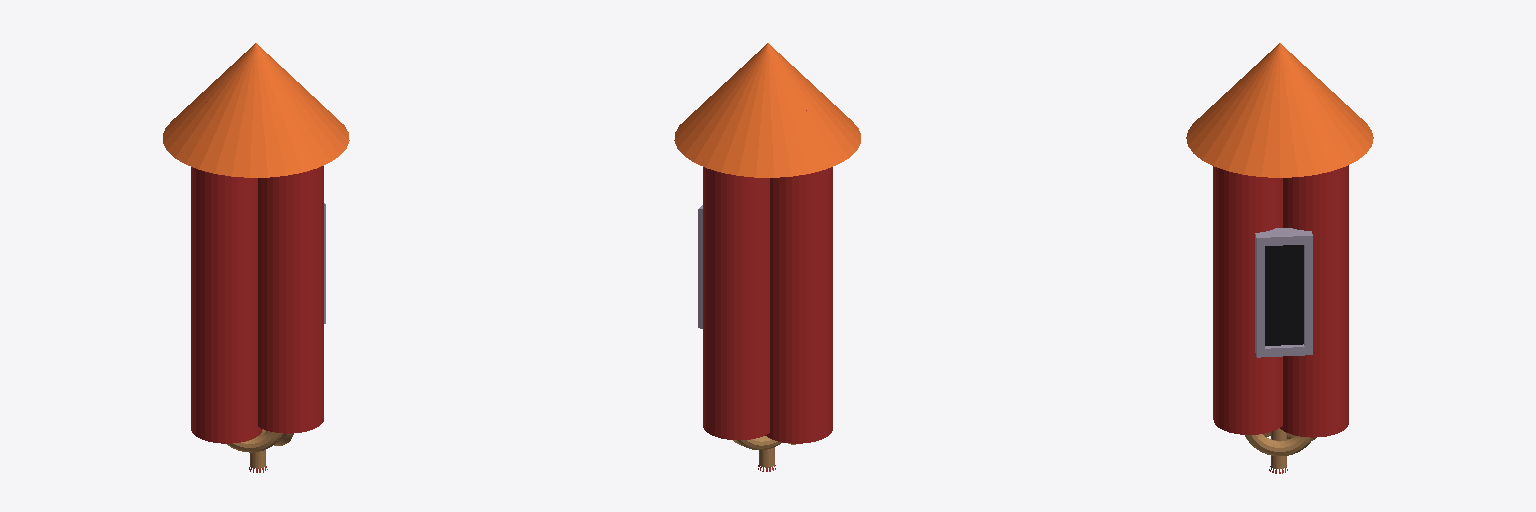
3 views of the same model, side by side, from view 1: azimuth 30°, elevation 25°; view 2: azimuth 150°, elevation 25°; view 3: azimuth 270°, elevation 25° (orthographic).
Parts seen in each view (by area): view 1: Bomb03; view 2: Bomb03; view 3: Bomb03.
Part boxes in pixels (x1,y1,x2,y2): Bomb03: (163, 43, 349, 472); Bomb03: (674, 43, 860, 471); Bomb03: (1186, 43, 1373, 473).
Size of the model in its own units: 1.17 by 2.93 by 1.17.
1 materials, 1 textured.